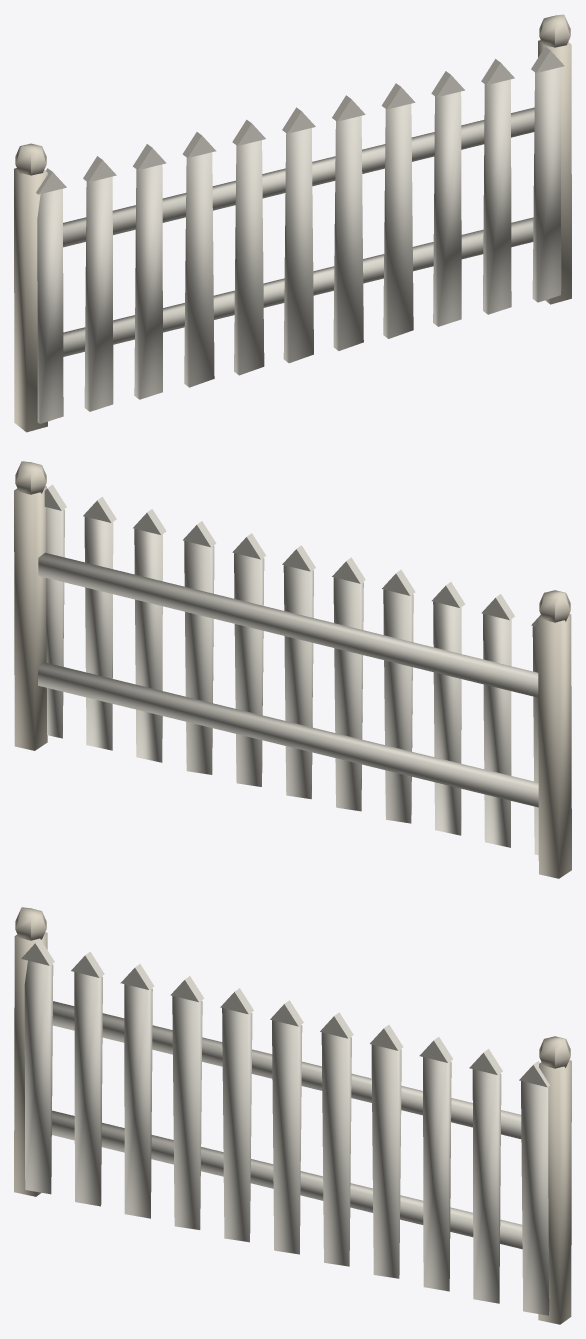
The model's file is lod_picket_fence.glb.
3 views of the same model, one above another, from view 1: azimuth 30°, elevation 25°; view 2: azimuth 150°, elevation 25°; view 3: azimuth 330°, elevation 25° (orthographic).
Visible parts, largest first — view 1: picket_fence; view 2: picket_fence; view 3: picket_fence.
Part boxes in pixels (x1,y1,x2,y2): picket_fence: [14, 14, 571, 432]; picket_fence: [14, 461, 571, 878]; picket_fence: [14, 907, 571, 1324].
Size of the model in its own units: 2.12 by 1.03 by 0.1095.
